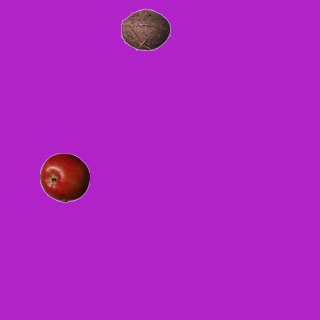Apple Braeburn: (39, 152, 89, 202)
Cocos: (120, 4, 170, 54)
